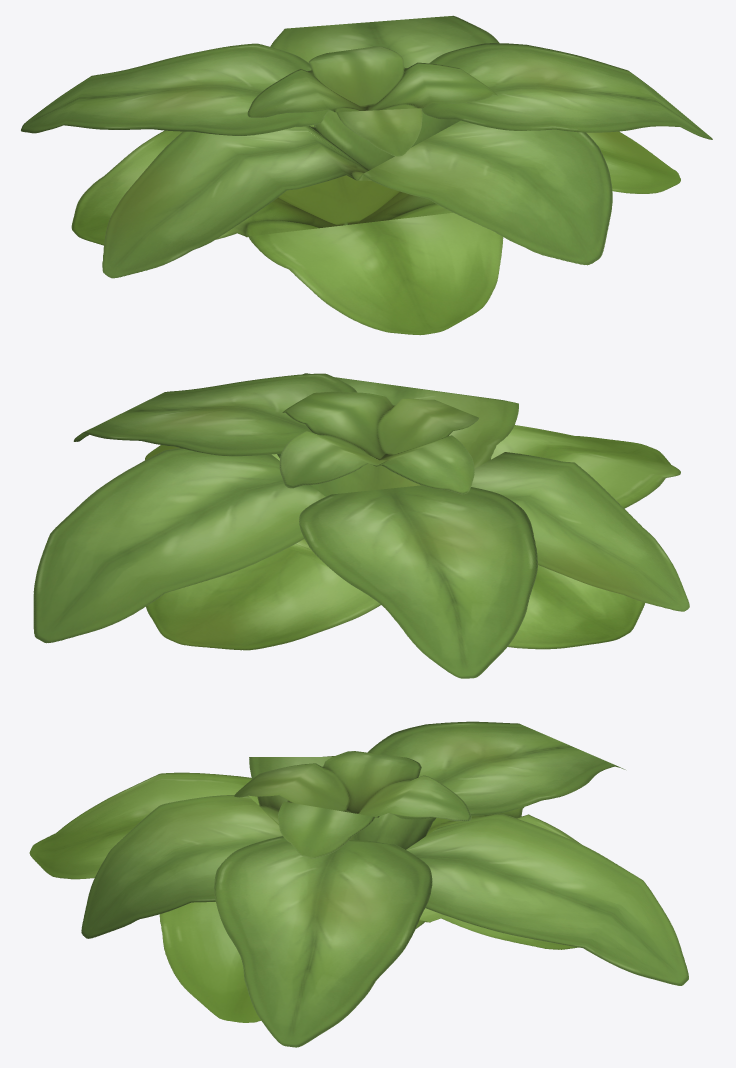
Rendered from big plant 2.fbx.
3 renders of one model, top to bottom at view 1: azimuth 30°, elevation 25°; view 2: azimuth 150°, elevation 25°; view 3: azimuth 270°, elevation 25°, orthographic. The views are drawn at different scales.
Visible parts, largest first — view 1: big plant 2; view 2: big plant 2; view 3: big plant 2.
Part boxes in pixels (box(x1,y1,x2,y2)): big plant 2: box(21, 15, 712, 335); big plant 2: box(33, 373, 689, 678); big plant 2: box(29, 721, 688, 1047).
Bounding box in the file's own units: 102 × 21.91 × 101.
